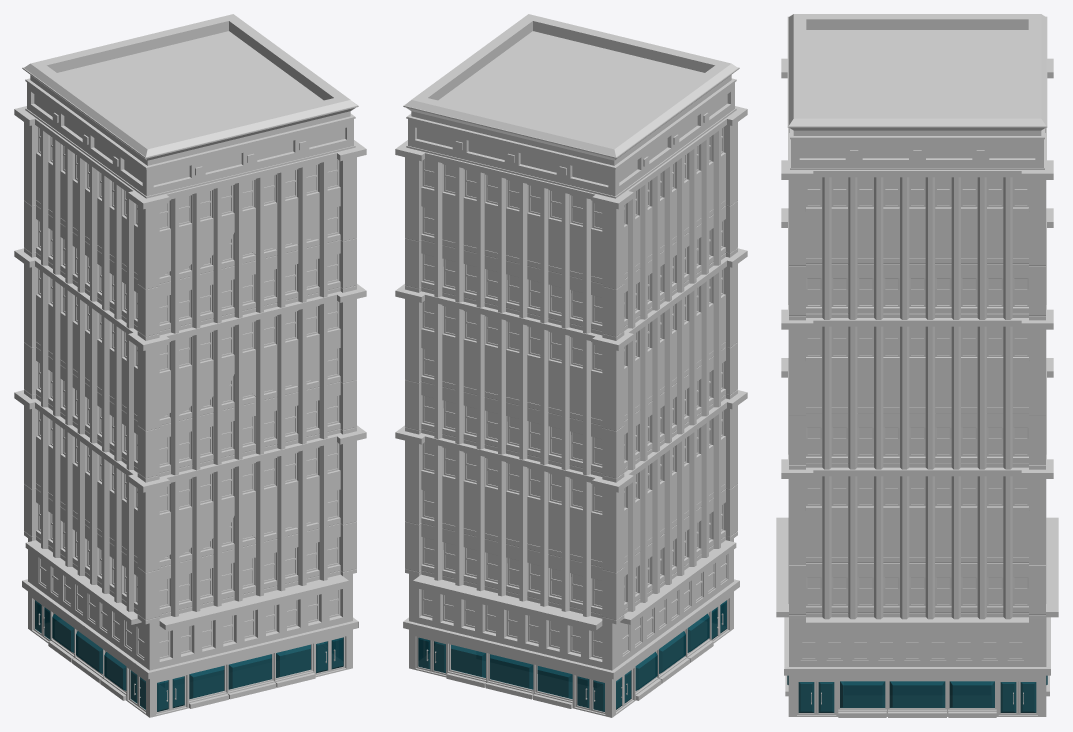
The model's file is building_office_four_sided_01_large.fbx.
3 views of the same model, side by side, from view 1: azimuth 30°, elevation 25°; view 2: azimuth 150°, elevation 25°; view 3: azimuth 270°, elevation 25° (orthographic). The views are drawn at different scales.
Visible parts, largest first — view 1: building_office_four_sided_01_large, building_office_four_sided_01_large_glass; view 2: building_office_four_sided_01_large, building_office_four_sided_01_large_glass; view 3: building_office_four_sided_01_large, building_office_four_sided_01_large_glass.
Boxes of the visible parts, left/top/right/bottom form: building_office_four_sided_01_large: left=14, top=14, right=366, bottom=717; building_office_four_sided_01_large_glass: left=35, top=600, right=343, bottom=711; building_office_four_sided_01_large: left=395, top=14, right=747, bottom=717; building_office_four_sided_01_large_glass: left=418, top=600, right=726, bottom=711; building_office_four_sided_01_large: left=776, top=14, right=1058, bottom=717; building_office_four_sided_01_large_glass: left=787, top=675, right=1047, bottom=712.
Size of the model in its own units: 1985 by 4800 by 2054.
